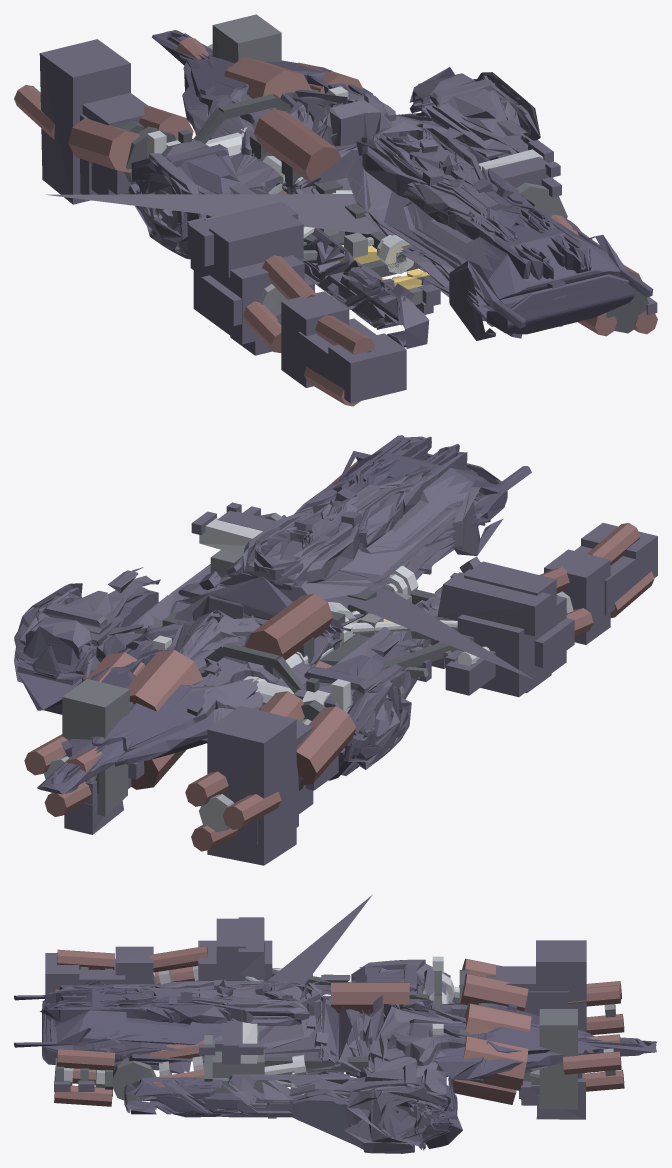
3 views of the same model, one above another, from view 1: azimuth 30°, elevation 25°; view 2: azimuth 150°, elevation 25°; view 3: azimuth 270°, elevation 25° (orthographic). The views are drawn at different scales.
Parts seen in each view (by area): view 1: mat1, mat2, mat32, mat31, mat9, mat30, mat0, mat21, mat23, mat16, mat11, mat12 (+6 smaller); view 2: mat1, mat2, mat31, mat30, mat32, mat0, mat9, mat21, mat23, mat27, mat22, mat8 (+6 smaller); view 3: mat1, mat2, mat31, mat0, mat22, mat32, mat9, mat30, mat16, mat24, mat23, mat27 (+8 smaller).
Part boxes in pixels (x1,y1,x2,y2): mat1: (39, 39, 657, 403); mat2: (128, 30, 653, 348); mat32: (90, 89, 648, 352); mat31: (204, 14, 567, 304); mat9: (254, 109, 341, 181); mat30: (147, 86, 543, 273); mat0: (166, 144, 511, 296); mat21: (68, 118, 139, 172); mat23: (224, 57, 311, 98); mat16: (315, 310, 657, 354); mat11: (262, 255, 315, 299); mat12: (243, 301, 281, 352); mat1: (14, 467, 657, 865); mat2: (14, 435, 531, 794); mat31: (62, 512, 457, 816); mat30: (152, 518, 489, 712); mat32: (95, 556, 623, 793); mat0: (118, 548, 454, 774); mat9: (245, 593, 332, 660); mat21: (296, 706, 356, 785); mat23: (126, 650, 203, 711); mat27: (44, 771, 228, 816); mat22: (131, 691, 304, 789); mat8: (43, 591, 573, 832); mat1: (45, 894, 586, 1150); mat2: (14, 972, 657, 1148); mat31: (113, 975, 577, 1109); mat0: (114, 964, 416, 1153); mat22: (451, 973, 528, 1104); mat32: (55, 962, 522, 1096); mat9: (331, 982, 409, 1013); mat30: (240, 956, 539, 1088); mat16: (54, 949, 114, 1106); mat24: (463, 1036, 528, 1090); mat23: (464, 1003, 531, 1034); mat27: (568, 985, 624, 1091).
Bounding box in the file's own units: 1.34 × 0.439 × 2.
